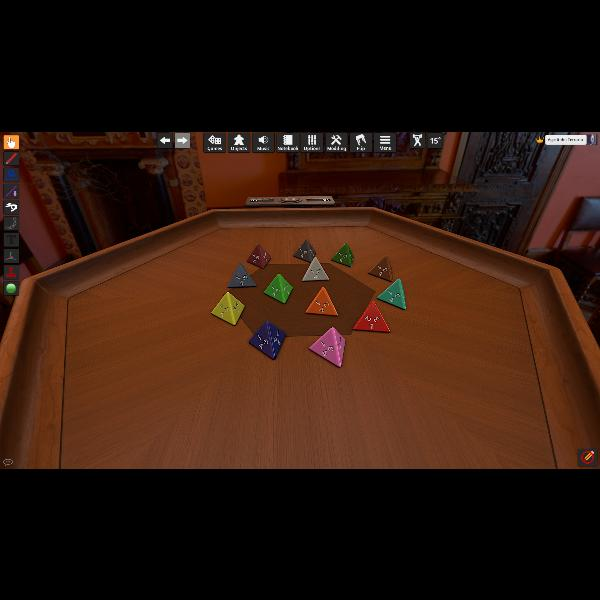d4: (248, 320, 286, 360), (309, 328, 345, 366), (353, 300, 389, 332), (212, 292, 245, 326), (306, 286, 337, 316), (378, 277, 406, 309), (264, 273, 292, 303), (228, 263, 256, 289), (302, 256, 328, 282), (367, 256, 392, 282), (247, 243, 271, 269), (294, 238, 316, 264), (331, 242, 353, 266)
